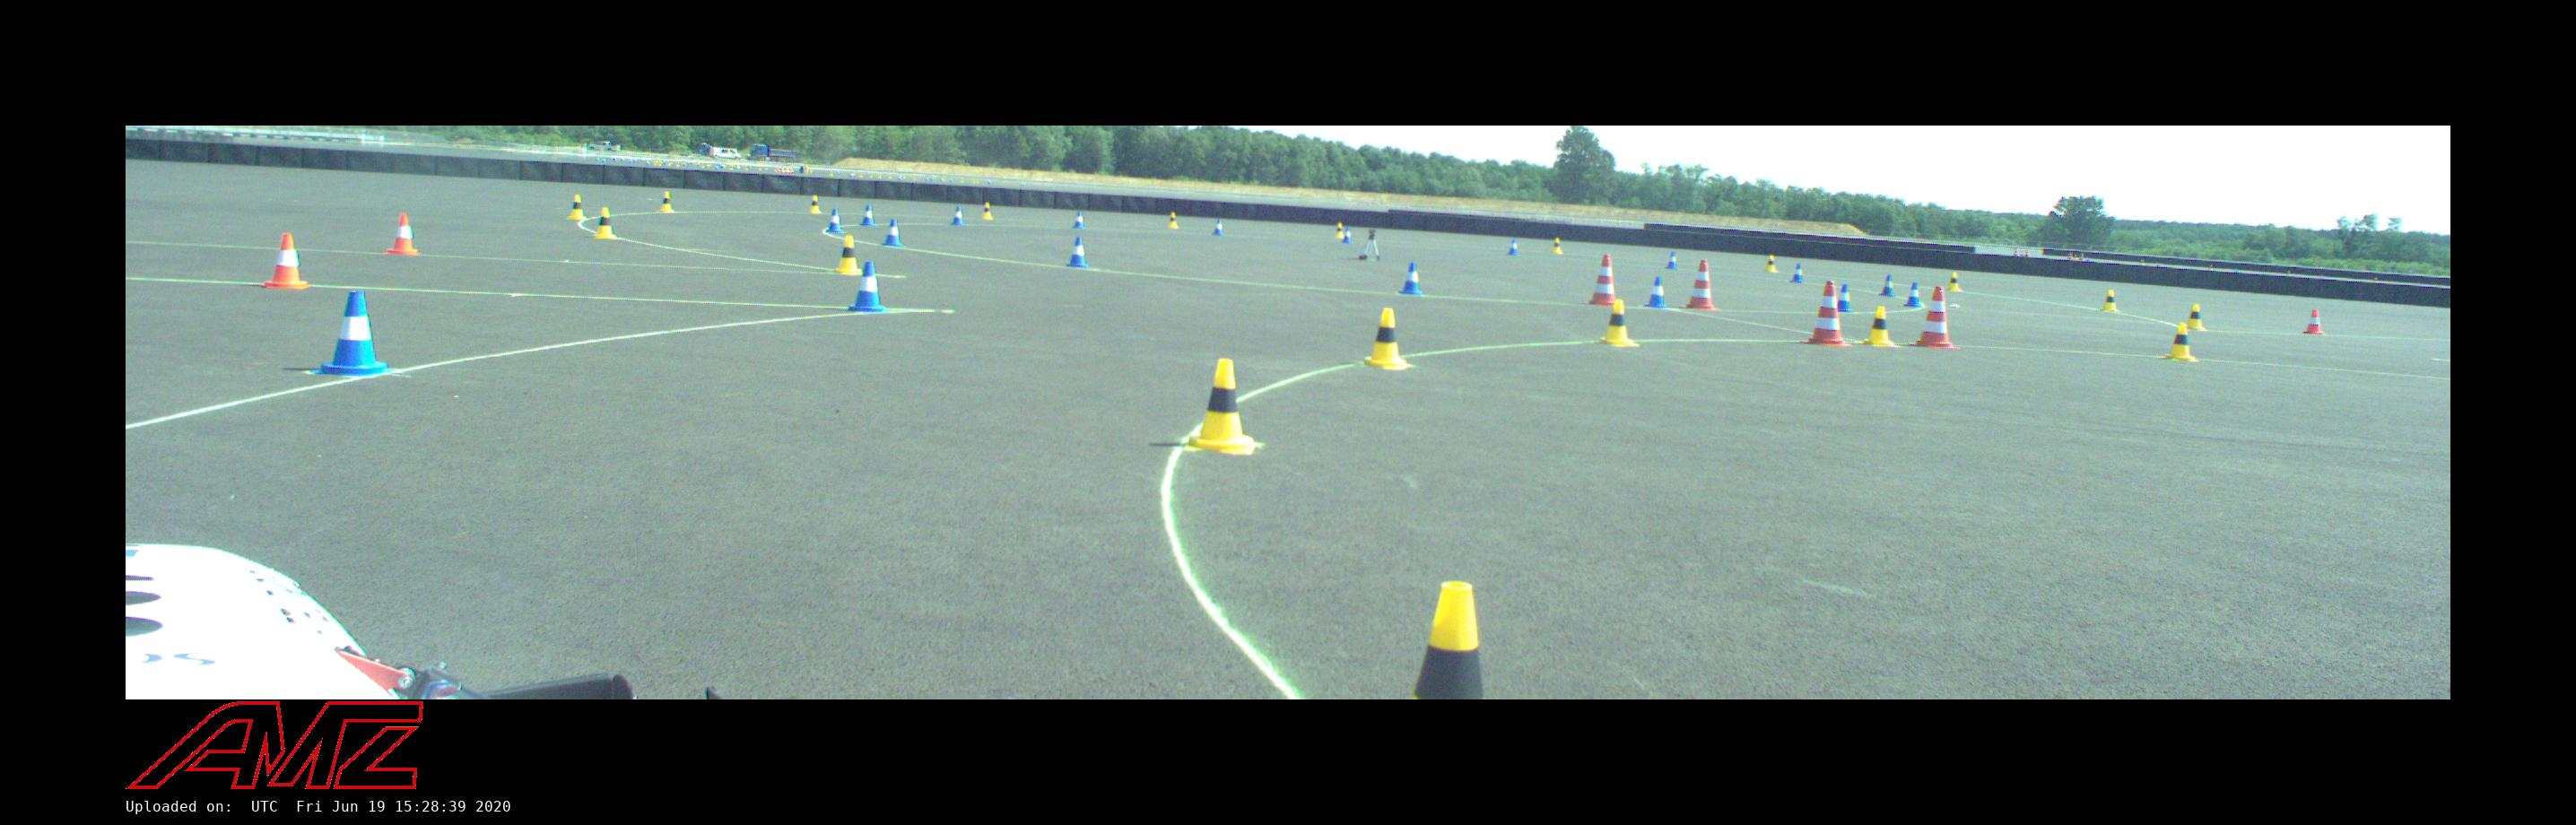blue_cone: (309, 291, 394, 376), (846, 261, 885, 312), (1398, 261, 1423, 296), (1066, 237, 1089, 268), (1833, 284, 1855, 312), (884, 219, 904, 248), (1646, 278, 1664, 307), (825, 209, 844, 233), (858, 204, 877, 227), (1878, 274, 1897, 297), (1904, 283, 1922, 307), (951, 207, 966, 227), (1789, 263, 1804, 283), (1071, 212, 1086, 230), (1211, 219, 1224, 237), (1508, 238, 1520, 256), (1666, 251, 1677, 270), (1342, 227, 1354, 243)
large_orange_cone: (1801, 281, 1851, 345), (1916, 288, 1953, 347), (1587, 256, 1618, 307), (1682, 261, 1714, 311)
orange_cone: (261, 233, 309, 289), (383, 214, 421, 256), (2303, 309, 2325, 335)
yellow_cone: (1413, 582, 1482, 700), (1186, 358, 1255, 455), (1362, 309, 1411, 370), (1600, 299, 1638, 347), (1860, 307, 1894, 347), (2164, 322, 2196, 360), (835, 235, 864, 273), (593, 207, 616, 238), (2183, 302, 2206, 330), (568, 194, 588, 220), (2100, 289, 2121, 312), (657, 191, 675, 214), (1945, 271, 1963, 291), (1764, 255, 1779, 273), (808, 194, 821, 214), (981, 202, 994, 220), (1551, 238, 1564, 253), (1334, 222, 1345, 238), (1166, 212, 1178, 228)
